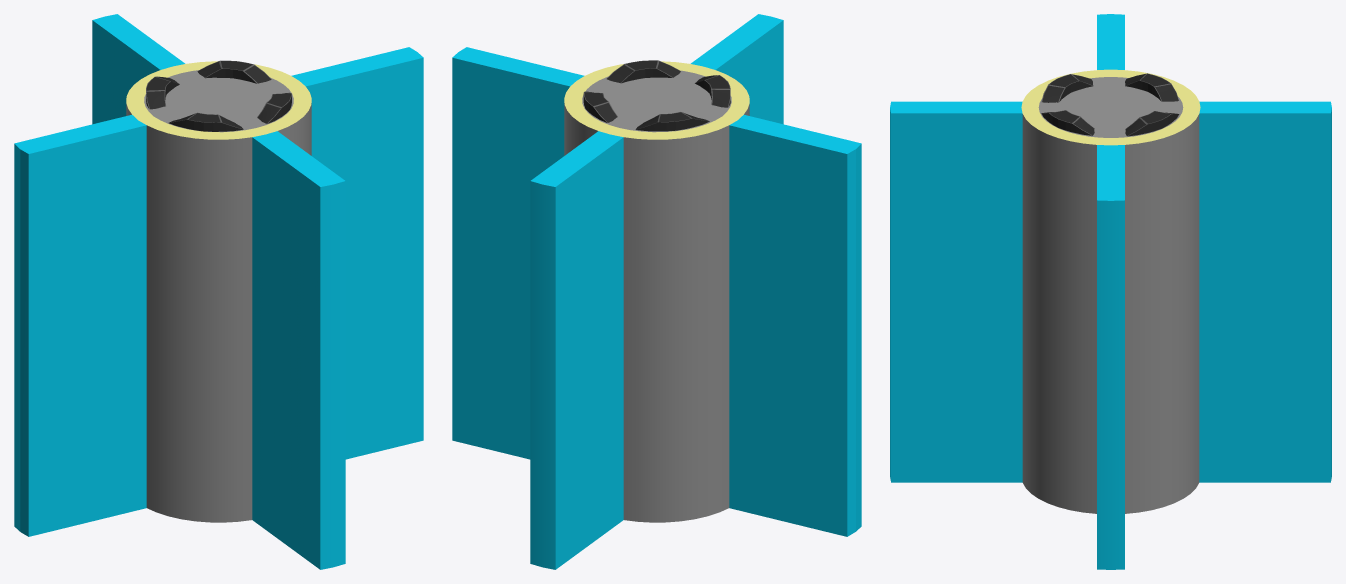
The model's file is Mapa1Plataformes.FBX.
The picture shows the model from 3 angles, left to right: view 1: azimuth 30°, elevation 25°; view 2: azimuth 150°, elevation 25°; view 3: azimuth 270°, elevation 25°; orthographic projection. The views are drawn at different scales.
Parts seen in each view (by area): view 1: Map1Plataformas; view 2: Map1Plataformas; view 3: Map1Plataformas.
Part boxes in pixels (<box>): Map1Plataformas: <box>14,14,423,569</box>; Map1Plataformas: <box>452,14,861,569</box>; Map1Plataformas: <box>890,14,1331,569</box>.
Bounding box in the file's own units: 14636 × 14621 × 13790.
